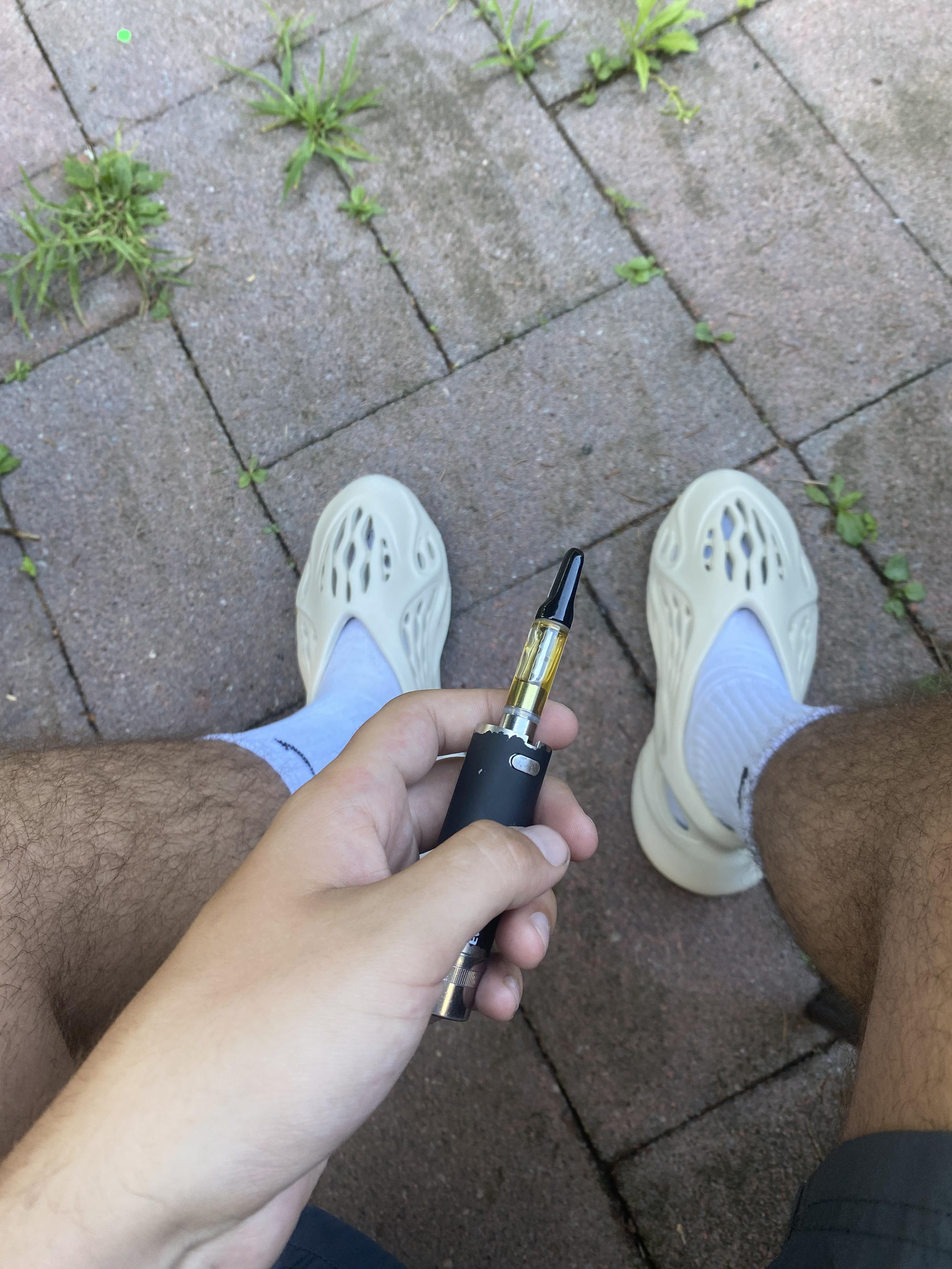sneaker: (629, 464, 826, 903), (290, 471, 452, 847)
